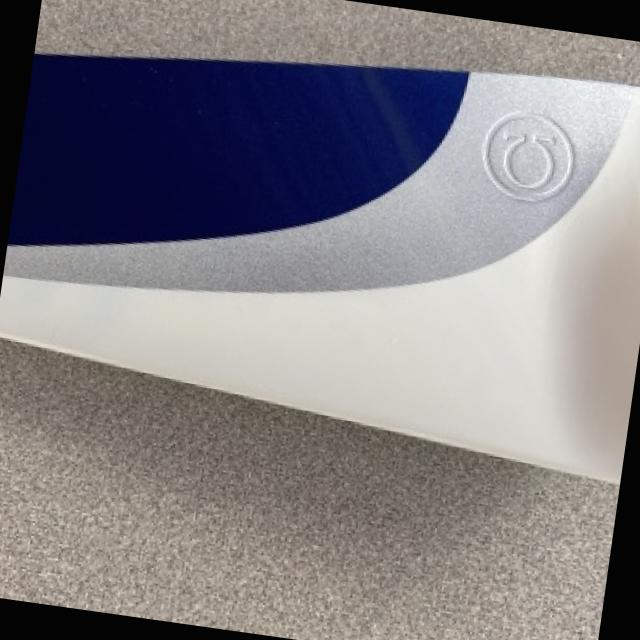healthy: (0, 71, 640, 479)
